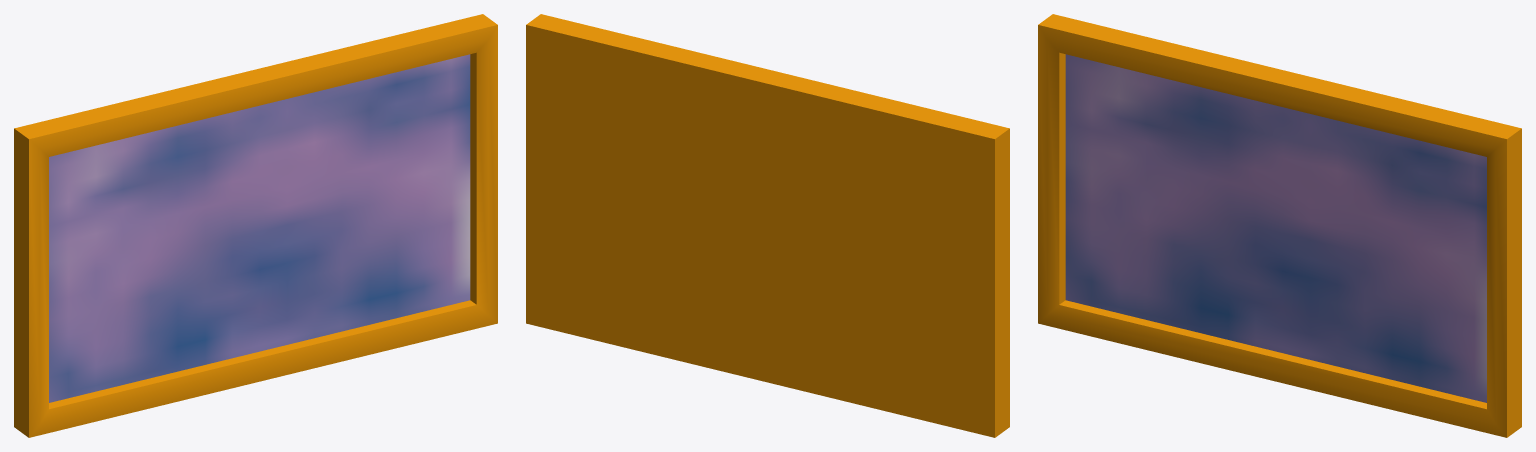
File: SM_Photo_3.fbx
3 views of the same model, side by side, from view 1: azimuth 30°, elevation 25°; view 2: azimuth 150°, elevation 25°; view 3: azimuth 330°, elevation 25° (orthographic).
Visible parts, largest first — view 1: canvas, frame, canvas1; view 2: frame; view 3: canvas, canvas1, frame.
Boxes of the visible parts, left/top/right/bottom form: canvas: left=49, top=54, right=470, bottom=402; frame: left=14, top=14, right=497, bottom=437; canvas1: left=49, top=55, right=469, bottom=400; frame: left=526, top=14, right=1009, bottom=437; canvas: left=1065, top=54, right=1486, bottom=402; canvas1: left=1065, top=55, right=1486, bottom=402; frame: left=1038, top=14, right=1521, bottom=437.
Size of the model in its own units: 1.99 by 1.21 by 0.1154.
